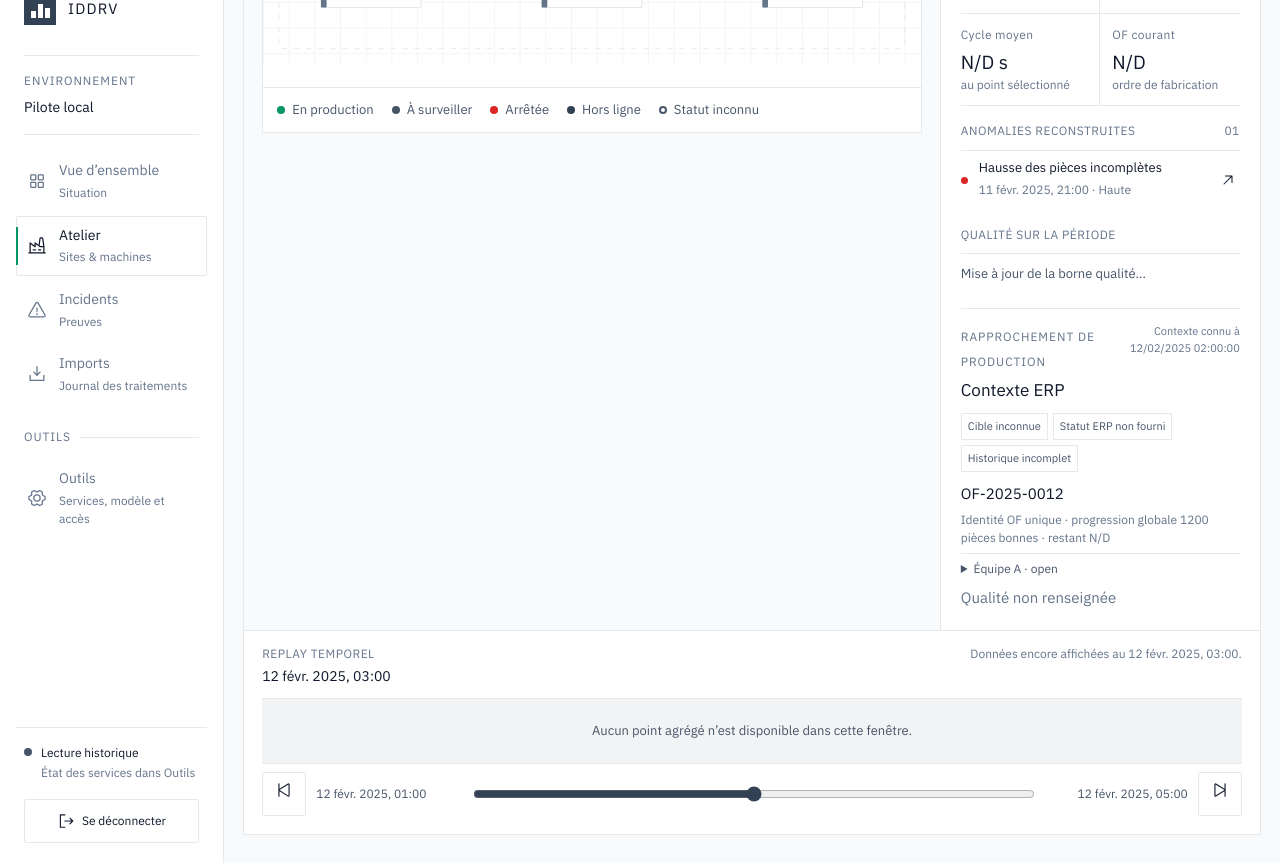
Scenario: masque un signal lorsque le replay dépasse son cutoff de données
(page scrolled)
Expected: the text "Hausse des pièces incomplètes" is shown, 979,159 -> 1162,176
Set the slider named "Position dans la période historique" to "100". click: {"x": 1027, "y": 794}
box: 473,772 -> 1035,816
(page scrolled)
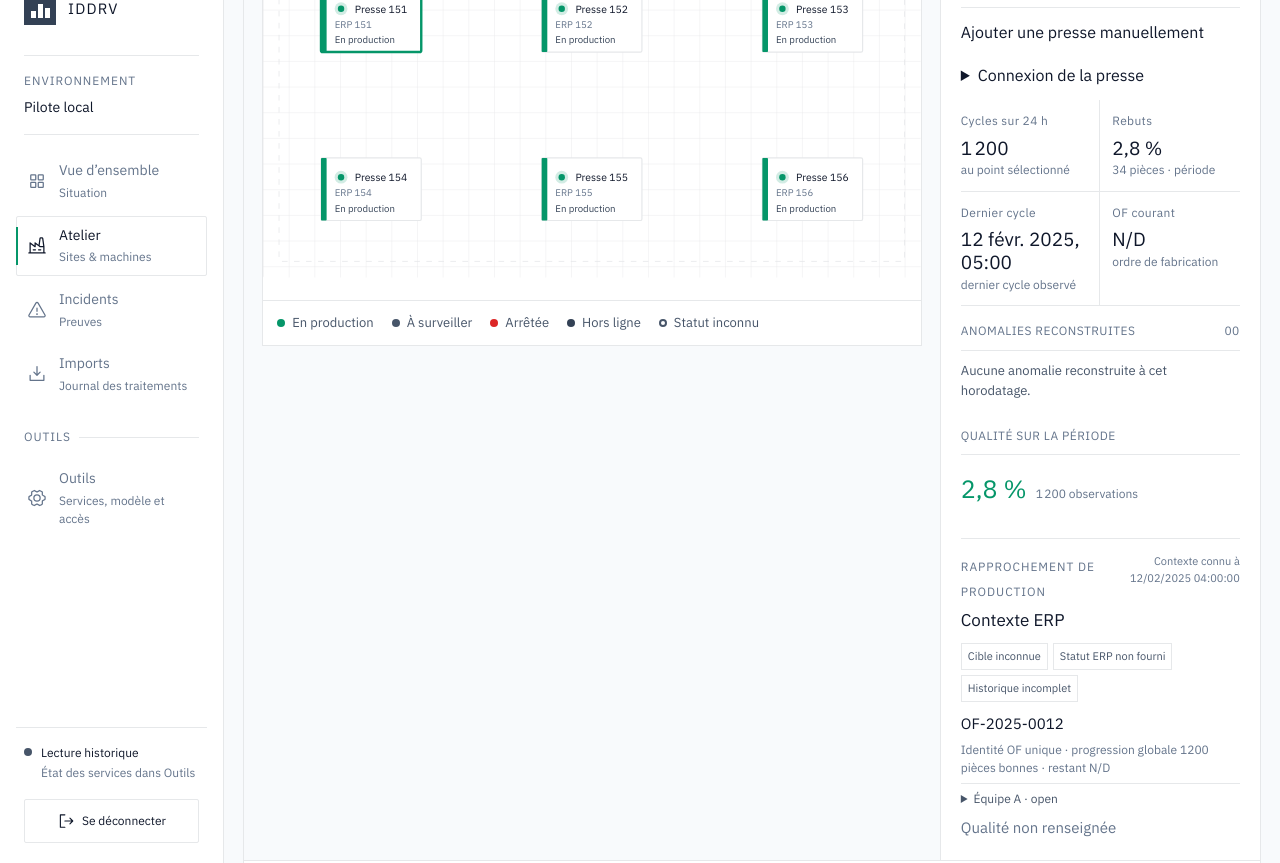
Result: the link "Hausse des pièces incomplètes" is gone
Result: the text "Aucune anomalie reconstruite à cet horodatage." is shown at 961,350 -> 1240,411
